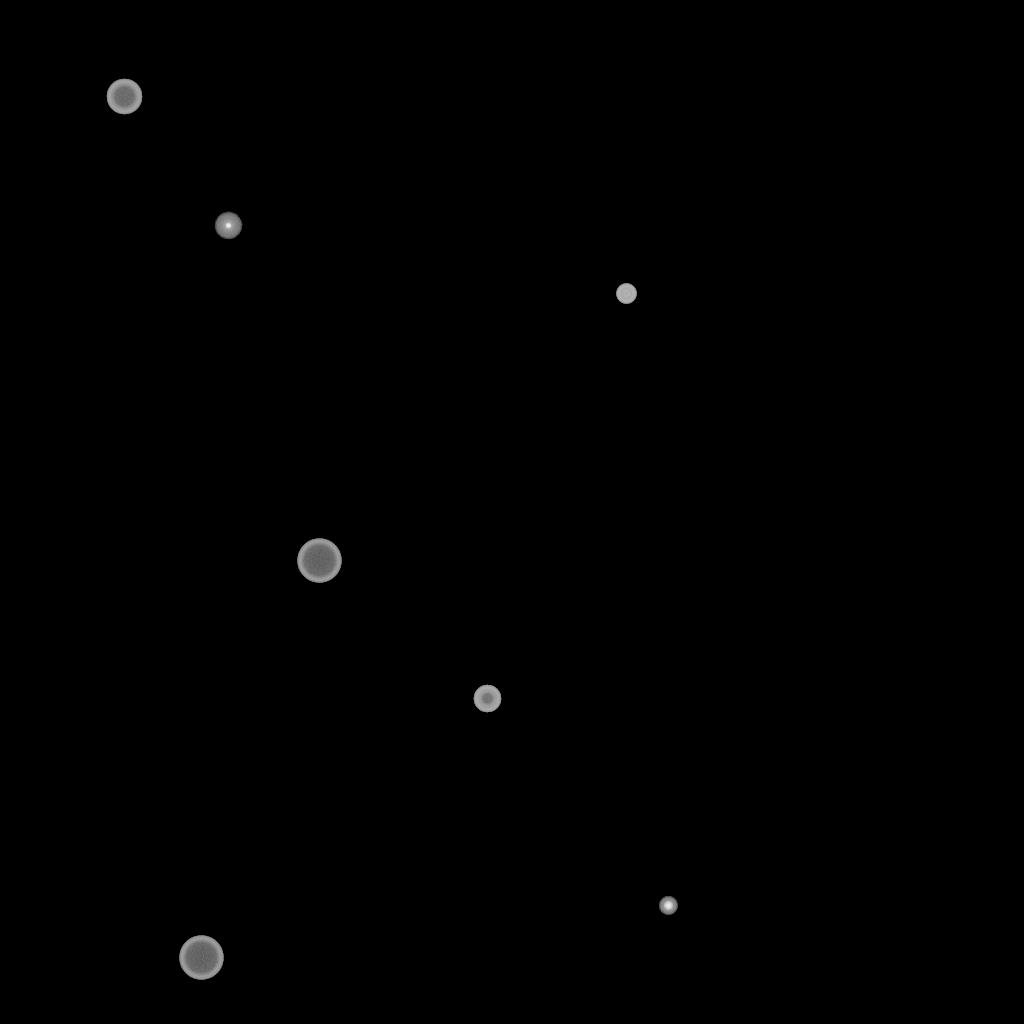depth:-10: (214, 212, 242, 240)
depth:-20: (659, 897, 677, 915)
depth:-40: (616, 284, 636, 304)
depth:-50: (473, 685, 501, 713)
depth:-60: (106, 79, 142, 115)
depth:-70: (297, 539, 341, 583), (179, 936, 223, 980)
